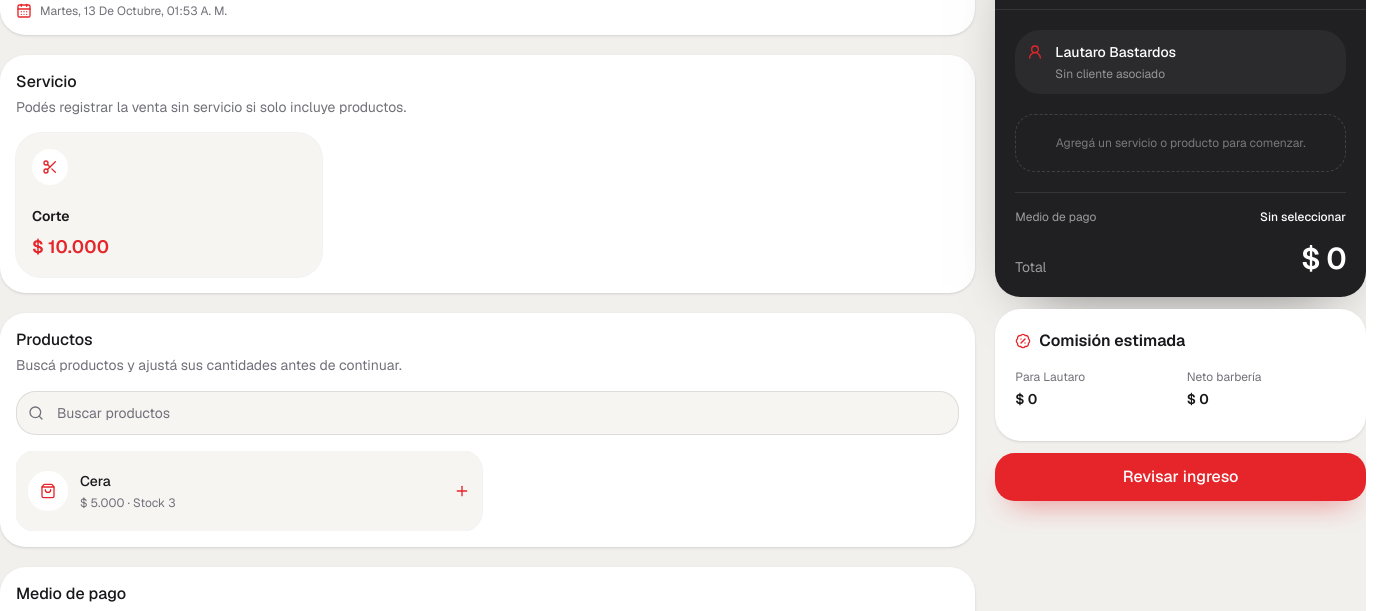
it: 020 application layer role safety › clamps a combined allocation so it cannot exceed the sale total
Click the button "Corte $ 10.000": (50, 167) [16,133,322,277]
(page scrolled)
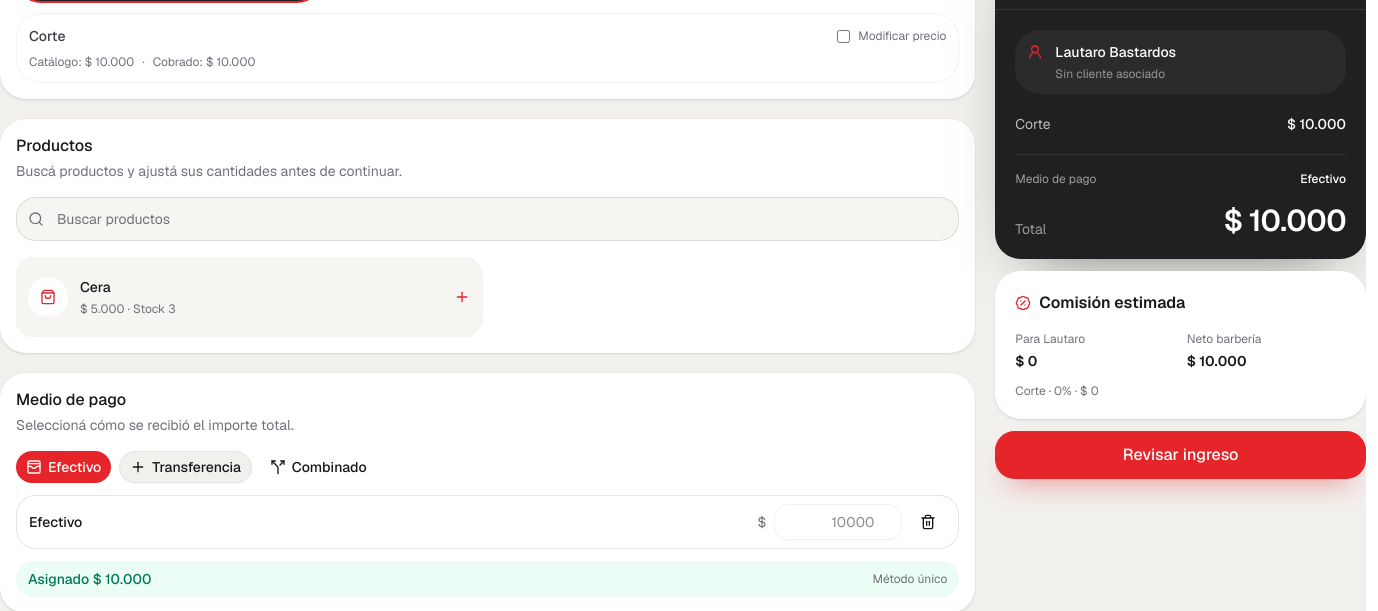
Click the button "Transferencia": (186, 467) [119,451,252,483]
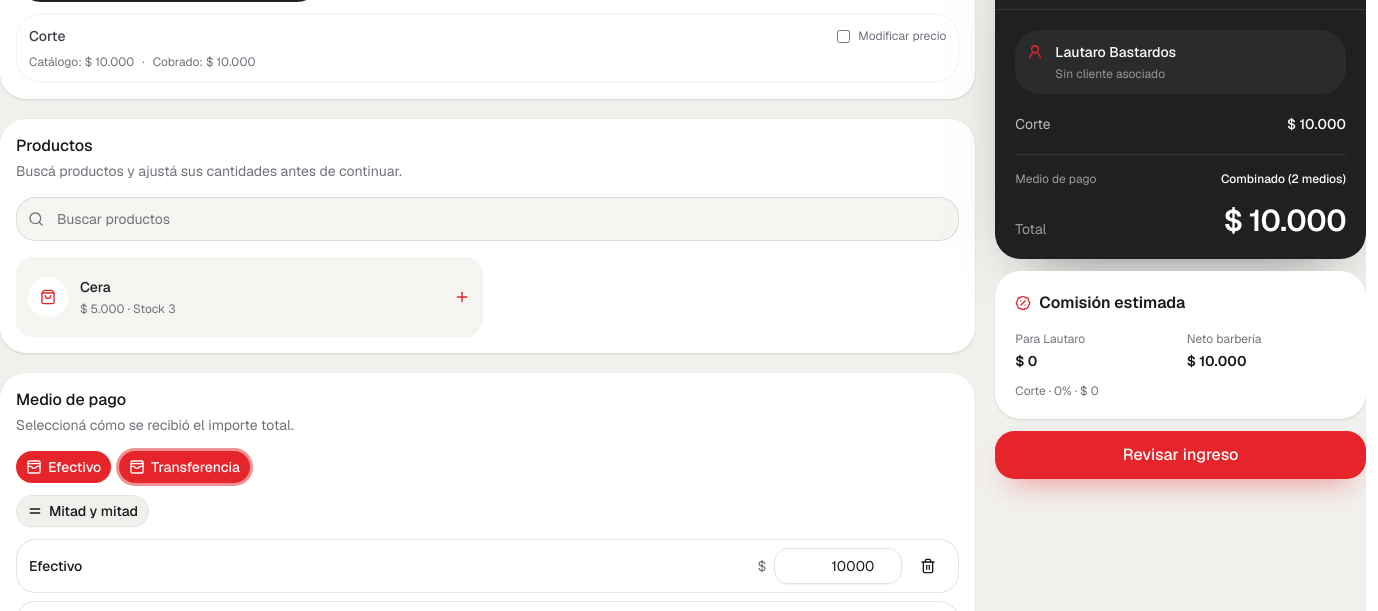
Replace the text in the number field named "Monto en Efectivo" with "20000": (838, 566) [774,548,902,584]
(page scrolled)
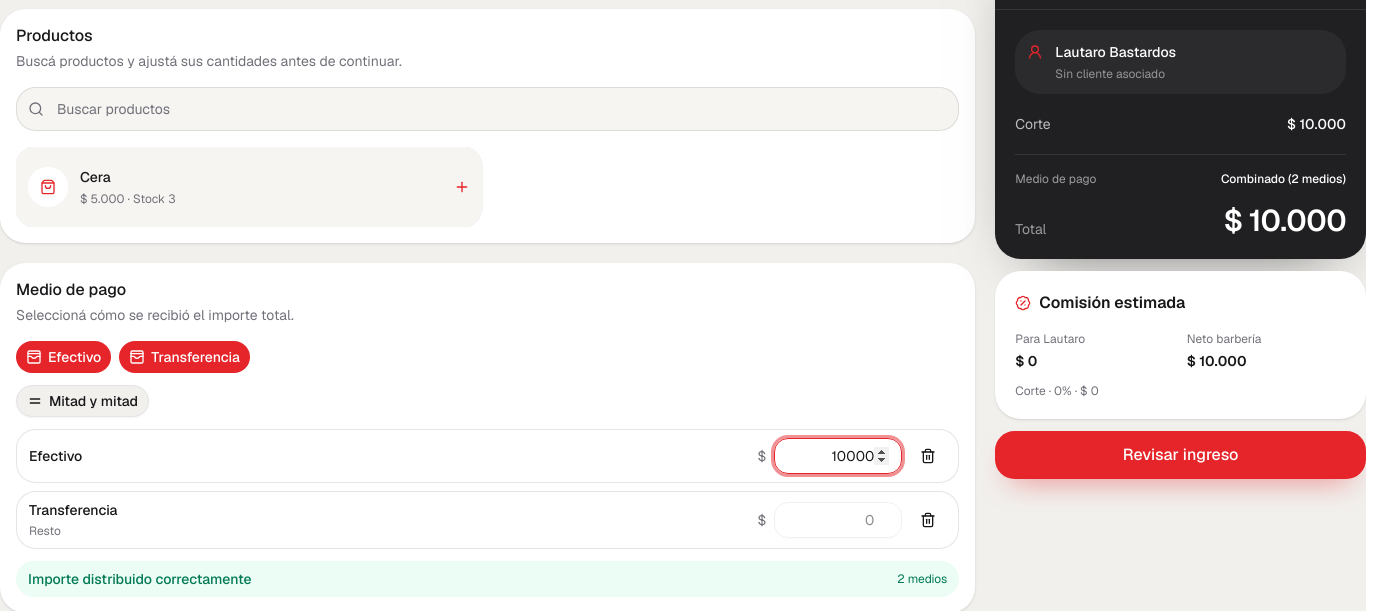
expect the number field named "Monto en Efectivo" holds "10000": met, box [774,438,902,474]
expect the number field named "Monto en Transferencia" holds "0": met, box [774,502,902,538]
